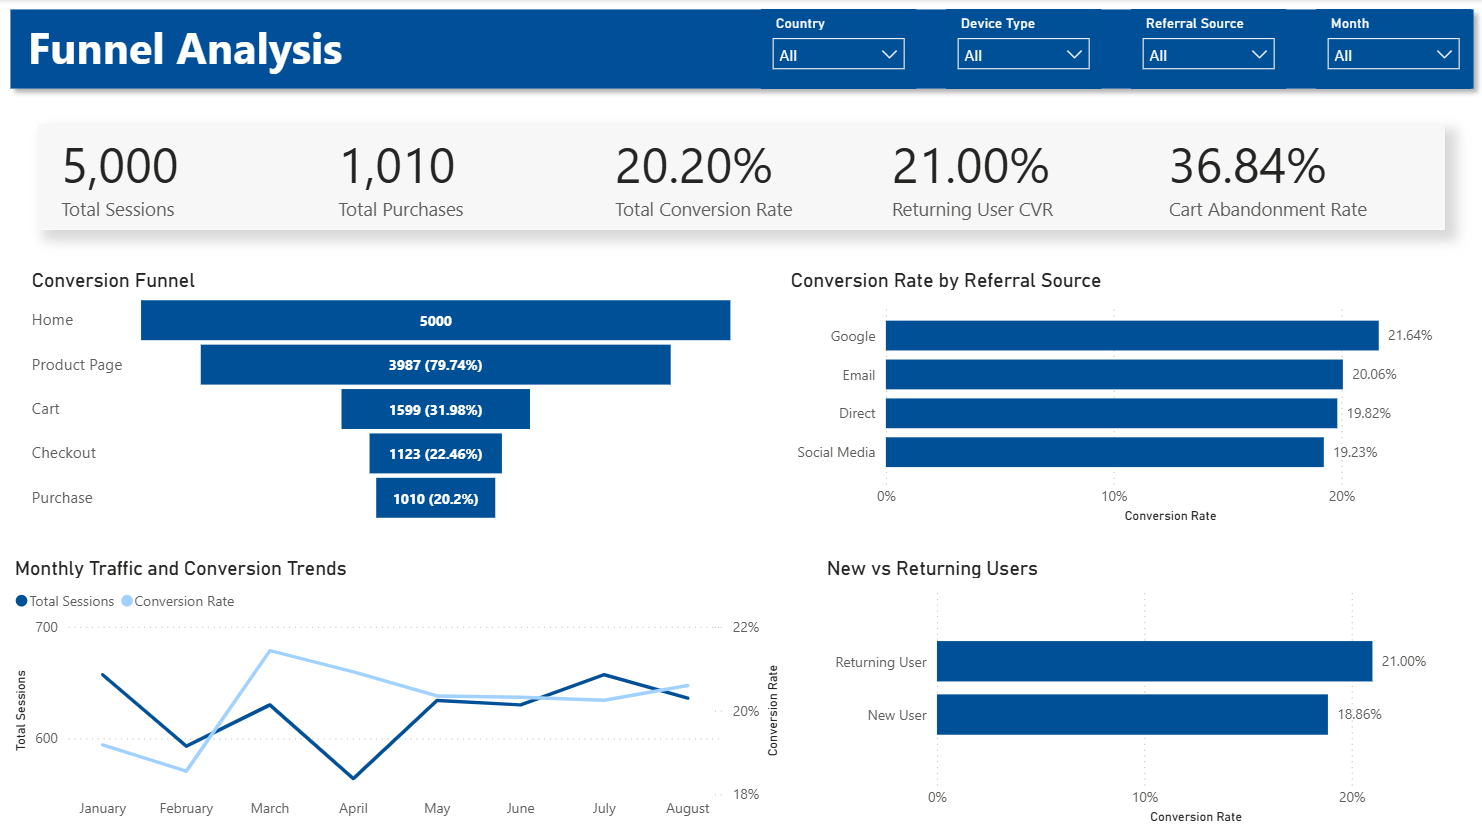

The dashboard page shown, as its layout file describes it:
{"tool":"powerbi","page":{"name":"Executive Summary","canvas":[1280,720],"ordinal":0},"visuals":[{"type":"shape","title":"Funnel Analysis","box":[0,0,1280,86.3],"z":0},{"type":"multiRowCard","fields":{"Values":["Measures_.Total Sessions","Measures_.Total Purchases","Measures_.Conversion Rate","Session_Level.Returning User CVR","Measures_.Cart Abandonment Rate"]},"box":[32.8,107.8,1214.4,91.4],"z":1000},{"type":"funnel","title":"Conversion Funnel","fields":{"Y":["Measures_.Sessions_Home","Measures_.Sessions_Product_Page","Measures_.Sessions_Cart","Measures_.Sessions_Checkout","Measures_.Sessions_Purchase"]},"box":[22.4,231.9,617.6,224.3],"z":2000},{"type":"slicer","fields":{"Values":["customer_journey.Country"]},"box":[656.3,8.6,133.7,69],"z":3000},{"type":"slicer","fields":{"Values":["customer_journey.DeviceType"]},"box":[815.8,8.6,133.7,69],"z":4000},{"type":"slicer","fields":{"Values":["customer_journey.ReferralSource"]},"box":[975.4,8.6,133.7,69],"z":5000},{"type":"slicer","fields":{"Values":["customer_journey.Date.Variation.Date Hierarchy.Month"]},"box":[1135,8.6,133.7,69],"z":6000},{"type":"lineChart","title":"Monthly Traffic and Conversion Trends","fields":{"Category":["customer_journey.Date.Variation.Date Hierarchy.Month"],"Y":["Measures_.Total Sessions"],"Y2":["Measures_.Conversion Rate"]},"box":[7.8,480.4,669.3,235.5],"z":7000},{"type":"barChart","title":"Conversion Rate by Referral Source","fields":{"Category":["customer_journey.ReferralSource"],"Y":["Measures_.Conversion Rate"]},"box":[677.1,232,595.1,224.3],"z":8000},{"type":"clusteredBarChart","title":"New vs Returning Users","fields":{"Category":["Session_Level.Cohort"],"Y":["Session_Level.Seesion_level_table_CVR"]},"box":[708.1,480.4,564.1,235.5],"z":9000}]}

Visuals, with their boxes in screenshot pixels (x1, y1, x2, y2), scaled from the page's 1280x720 canvas onto the 1482x831 screenshot:
"Funnel Analysis" shape: x1=0 y1=0 x2=1481 y2=100
multiRowCard - Measures_.Total Sessions x Measures_.Total Purchases: x1=38 y1=124 x2=1444 y2=230
"Conversion Funnel" funnel: x1=26 y1=268 x2=741 y2=527
slicer - customer_journey.Country: x1=760 y1=10 x2=915 y2=90
slicer - customer_journey.DeviceType: x1=945 y1=10 x2=1099 y2=90
slicer - customer_journey.ReferralSource: x1=1129 y1=10 x2=1284 y2=90
slicer - customer_journey.Date.Variation.Date Hierarchy.Month: x1=1314 y1=10 x2=1469 y2=90
"Monthly Traffic and Conversion Trends" lineChart: x1=9 y1=554 x2=784 y2=826
"Conversion Rate by Referral Source" barChart: x1=784 y1=268 x2=1473 y2=527
"New vs Returning Users" clusteredBarChart: x1=820 y1=554 x2=1473 y2=826
